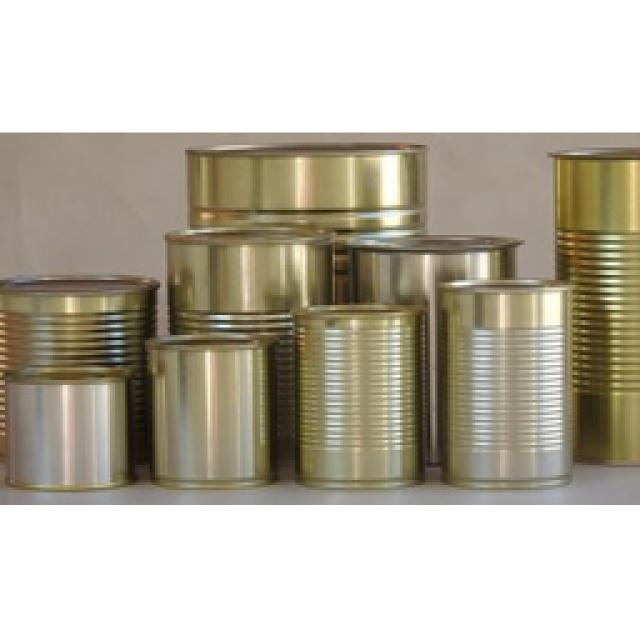alumunium: (0, 142, 638, 488)
